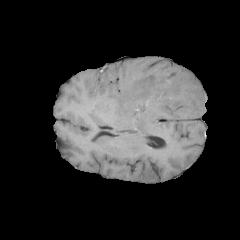glioma: (106, 68, 200, 134)
